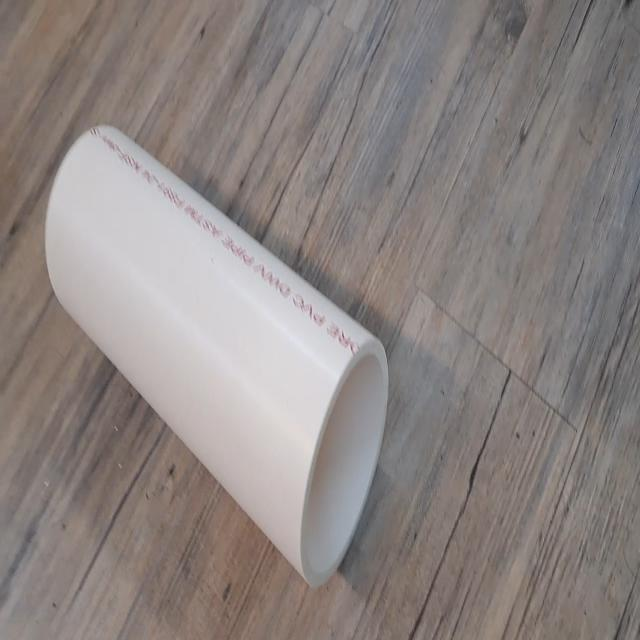CORAL: (35, 112, 395, 592)
